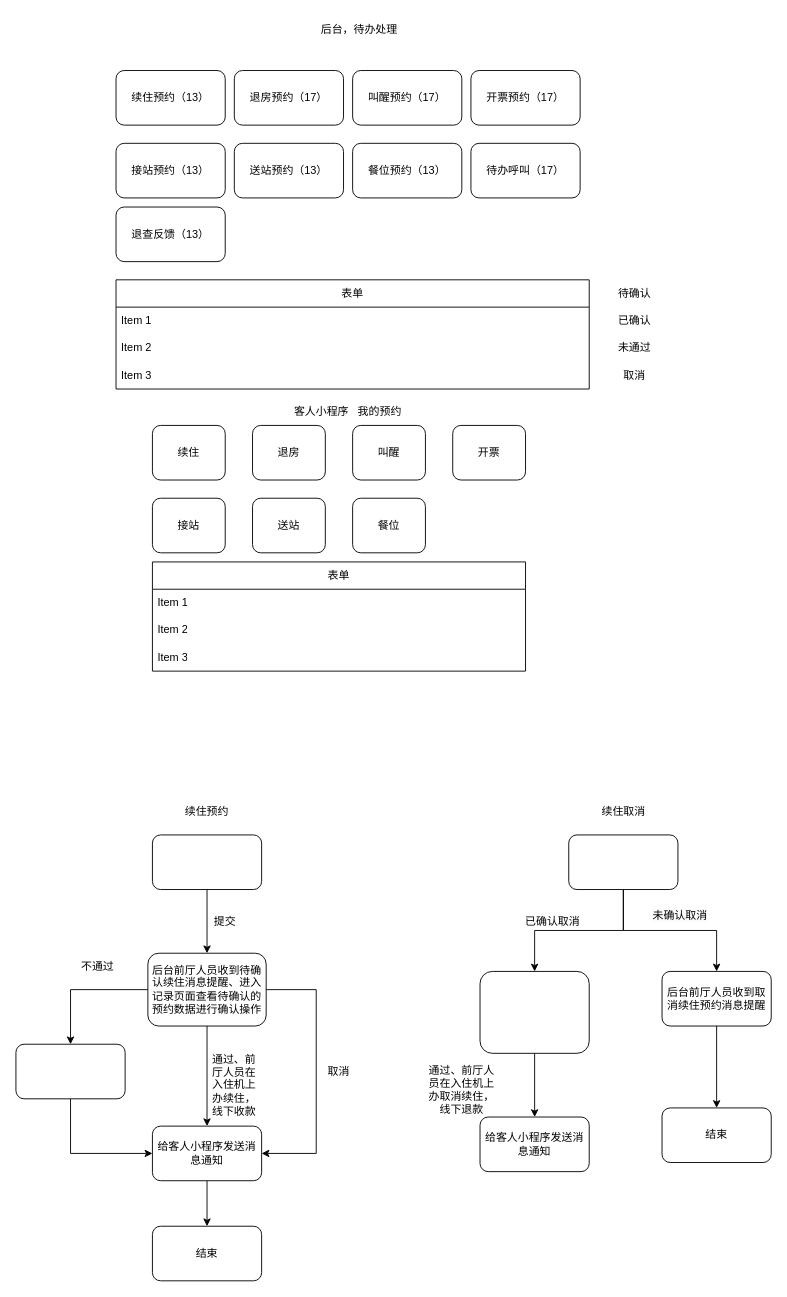
Some shapes in this 787 by 1297 pixel diagram are drawn without their labels. The shapes that lost their labels are listed below. From the top down, each one's centre as x and y in pixels, then its label:
point (207, 862): 客人小程序选择天数
point (623, 862): 客人小程序续住记录
point (534, 1012): 后台前厅人员收到待确认续住消息提醒、进入记录页面查看待取消的预约数据进行确认操作
point (70, 1071): 备注原因
